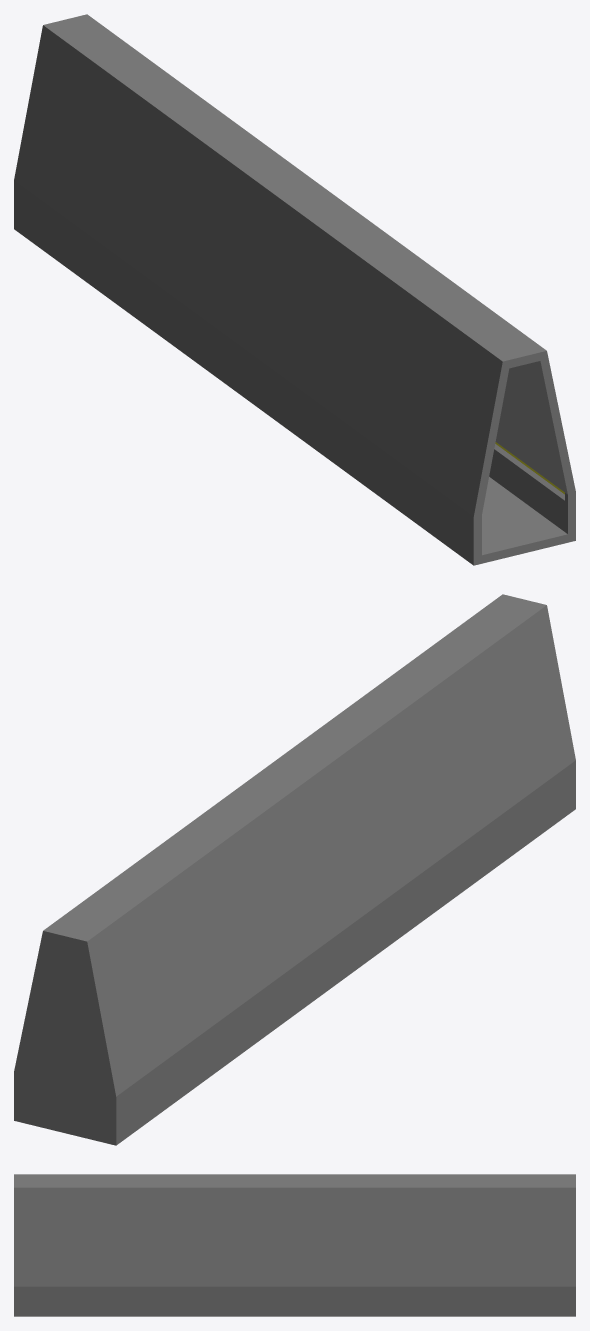
Rendered from DustCityEntry.fbx.
The picture shows the model from 3 angles, top to bottom: view 1: azimuth 30°, elevation 25°; view 2: azimuth 150°, elevation 25°; view 3: azimuth 270°, elevation 25°; orthographic projection. The views are drawn at different scales.
Parts seen in each view (by area): view 1: DustCityTunnelEntry; view 2: DustCityTunnelEntry; view 3: DustCityTunnelEntry.
Boxes of the visible parts, bbox=[...] form: DustCityTunnelEntry: bbox=[14, 14, 575, 565]; DustCityTunnelEntry: bbox=[14, 594, 575, 1145]; DustCityTunnelEntry: bbox=[14, 1174, 575, 1316].
Size of the model in its own units: 42.56 by 78.41 by 332.
